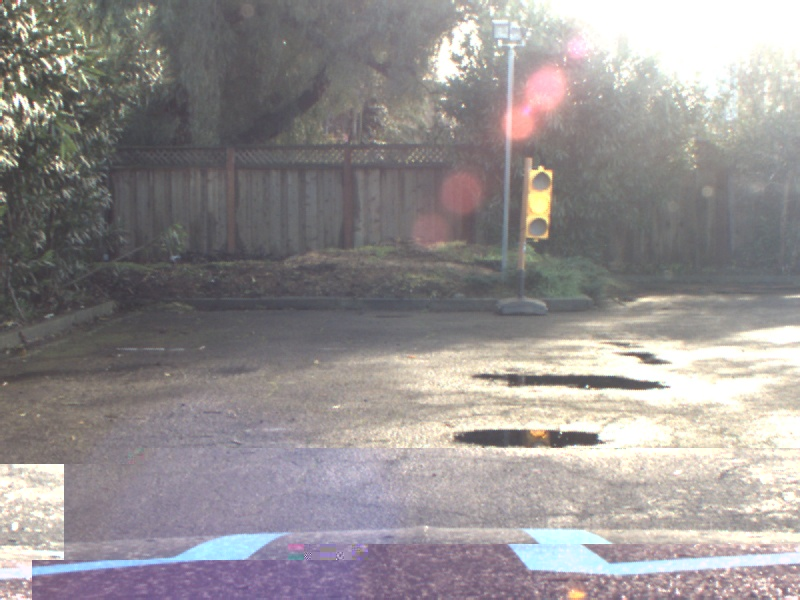Yellow: (522, 168, 553, 236)
